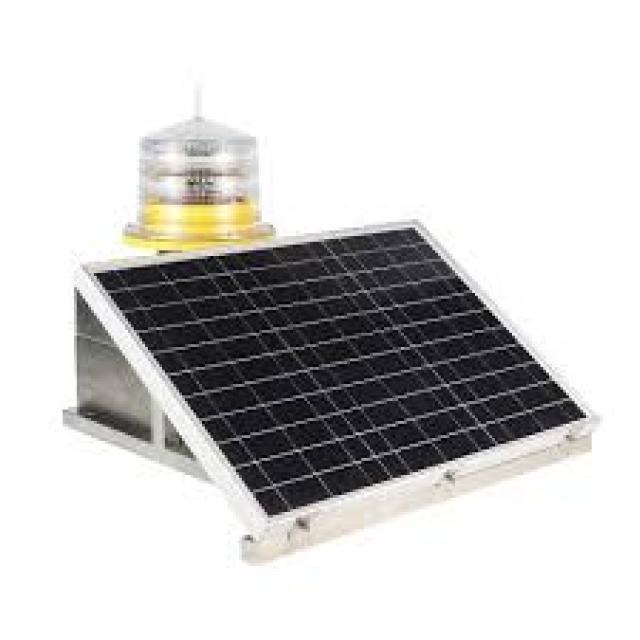no faulty: (104, 223, 589, 514)
